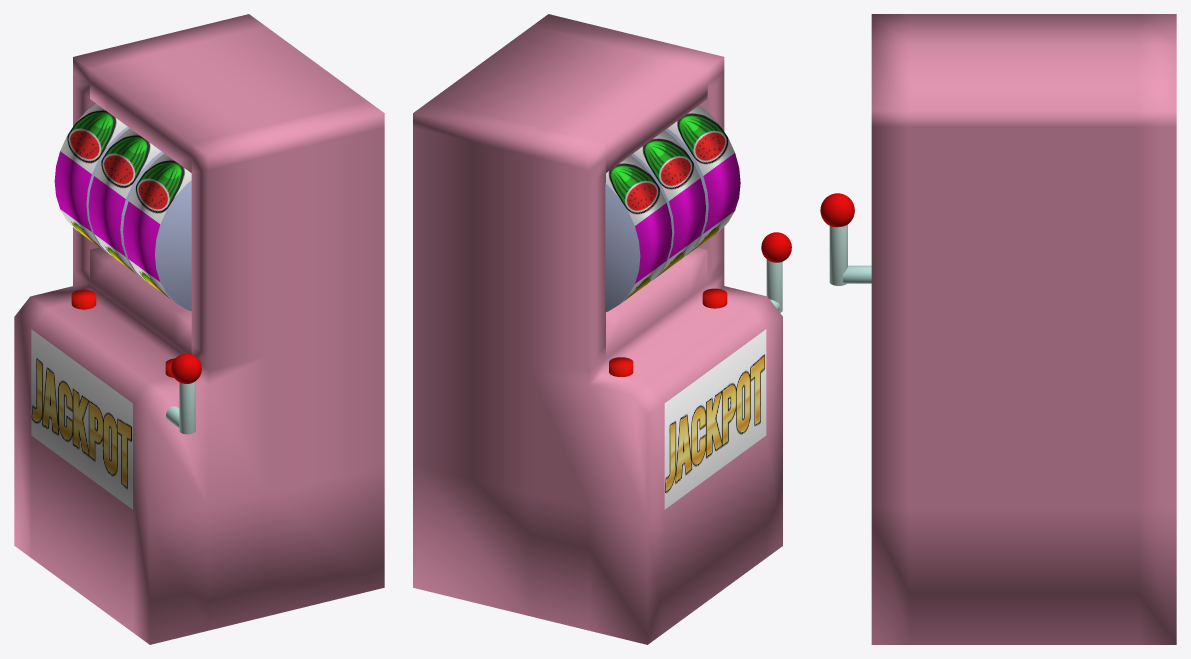
Rendered from kazino.fbx.
3 renders of one model, left to right at view 1: azimuth 30°, elevation 25°; view 2: azimuth 150°, elevation 25°; view 3: azimuth 270°, elevation 25°, orthographic. The views are drawn at different scales.
Visible parts, largest first — view 1: Куб, Цилиндр.002, Цилиндр.001, Цилиндр, Цилиндр.005, Сфера; view 2: Куб, Цилиндр, Цилиндр.002, Цилиндр.001, Сфера, Цилиндр.005; view 3: Куб, Цилиндр.005, Сфера, Цилиндр.004.
Part boxes in pixels (box(x1,y1,x2,y2)): Куб: box(14, 14, 384, 644); Цилиндр.002: box(123, 153, 191, 311); Цилиндр.001: box(88, 128, 163, 278); Цилиндр: box(54, 103, 129, 253); Цилиндр.005: box(179, 381, 195, 434); Сфера: box(171, 353, 201, 383); Куб: box(413, 14, 782, 644); Цилиндр: box(605, 155, 672, 312); Цилиндр.002: box(665, 105, 740, 255); Цилиндр.001: box(631, 130, 705, 280); Сфера: box(761, 232, 791, 262); Цилиндр.005: box(766, 259, 782, 312); Куб: box(871, 14, 1176, 644); Цилиндр.005: box(829, 224, 847, 285); Сфера: box(820, 193, 854, 227); Цилиндр.004: box(843, 265, 871, 283).
Size of the model in its own units: 324 by 627 by 379.
